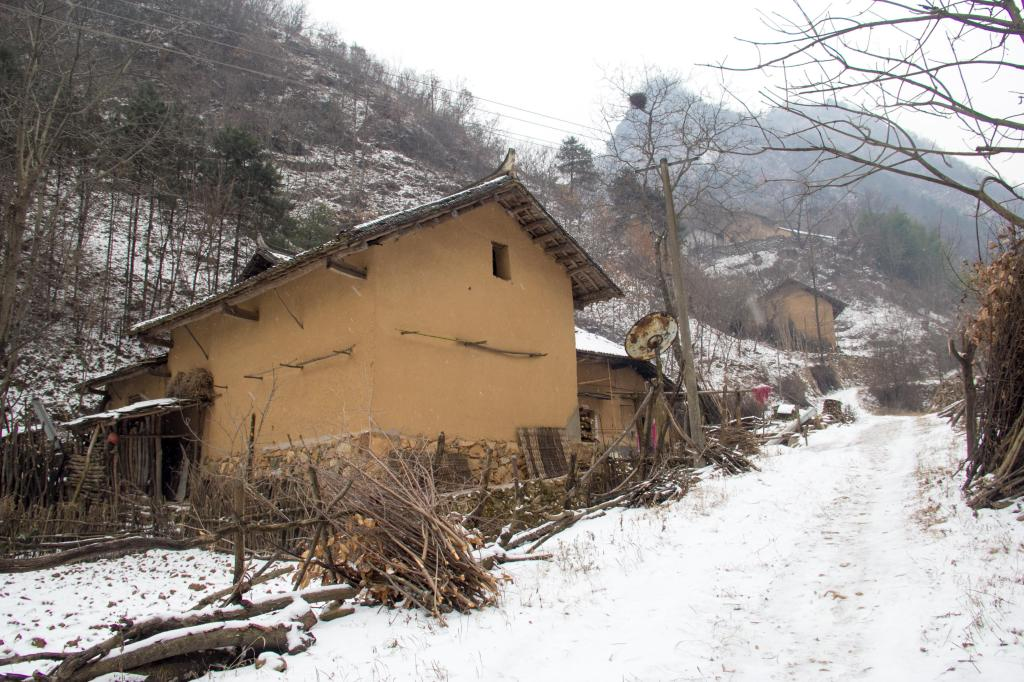bird-nest: (630, 91, 651, 107)
